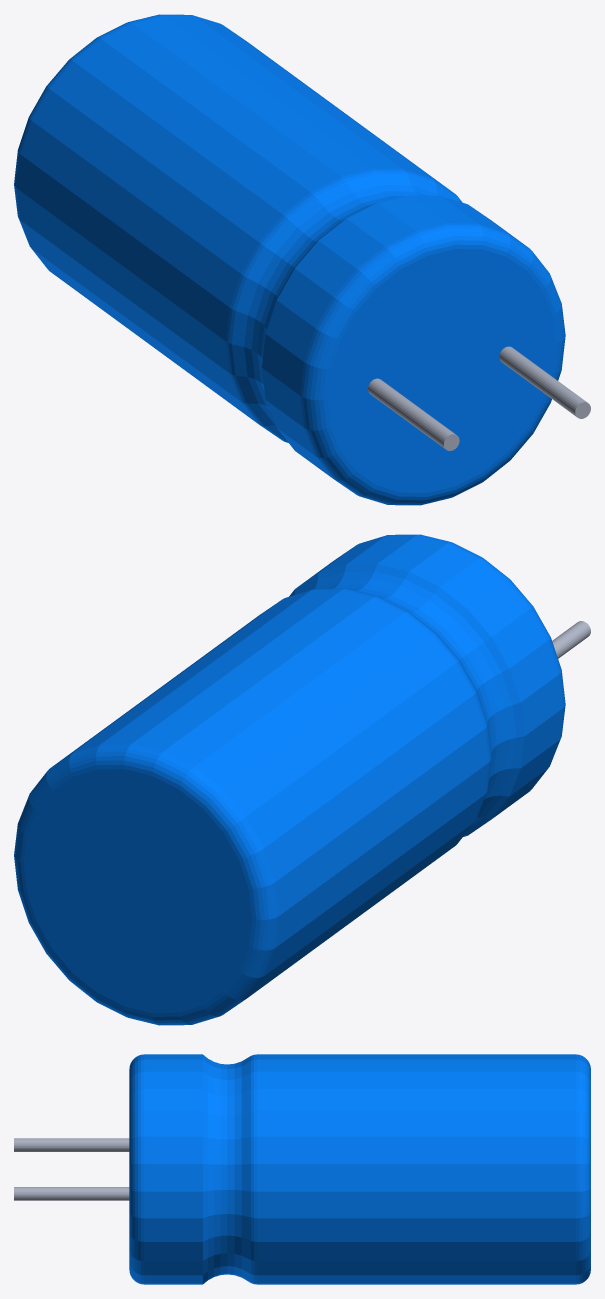
The model's file is 11_Alum_10x20_pitch_5mm.obj.
3 views of the same model, one above another, from view 1: azimuth 30°, elevation 25°; view 2: azimuth 150°, elevation 25°; view 3: azimuth 270°, elevation 25° (orthographic). The views are drawn at different scales.
Parts seen in each view (by area): view 1: 11_Alum_10x20_pitch_5mm; view 2: 11_Alum_10x20_pitch_5mm; view 3: 11_Alum_10x20_pitch_5mm.
Part boxes in pixels (x1,y1,x2,y2): 11_Alum_10x20_pitch_5mm: (14,14,590,505); 11_Alum_10x20_pitch_5mm: (14,534,590,1025); 11_Alum_10x20_pitch_5mm: (14,1054,590,1284).
Bounding box in the file's own units: 0.0109 × 0.0109 × 0.0273.
